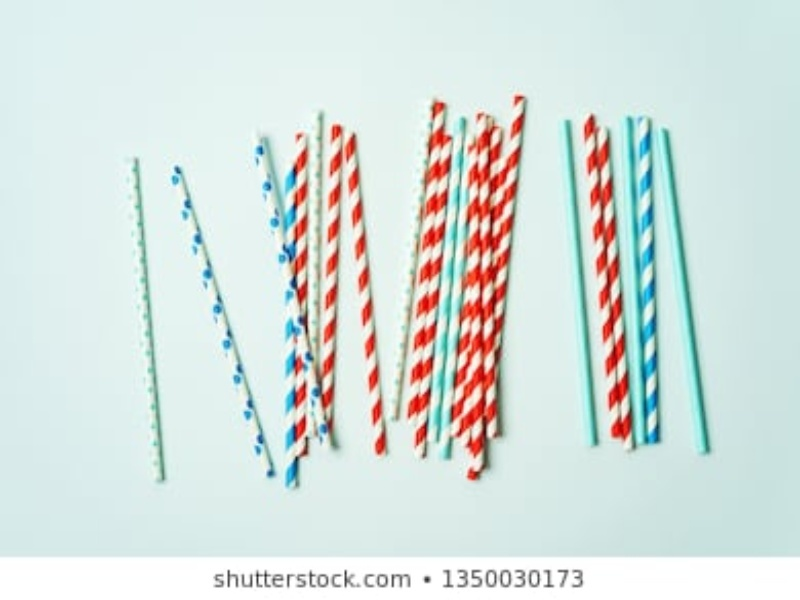straw: (166, 156, 284, 484), (248, 127, 344, 449), (655, 128, 739, 462), (117, 151, 180, 490), (340, 115, 393, 458), (483, 92, 535, 436), (405, 101, 454, 459), (553, 116, 604, 450), (580, 111, 628, 445), (434, 111, 476, 461), (634, 109, 668, 447), (315, 112, 347, 447), (431, 108, 459, 469), (289, 131, 315, 455), (308, 100, 328, 439)
